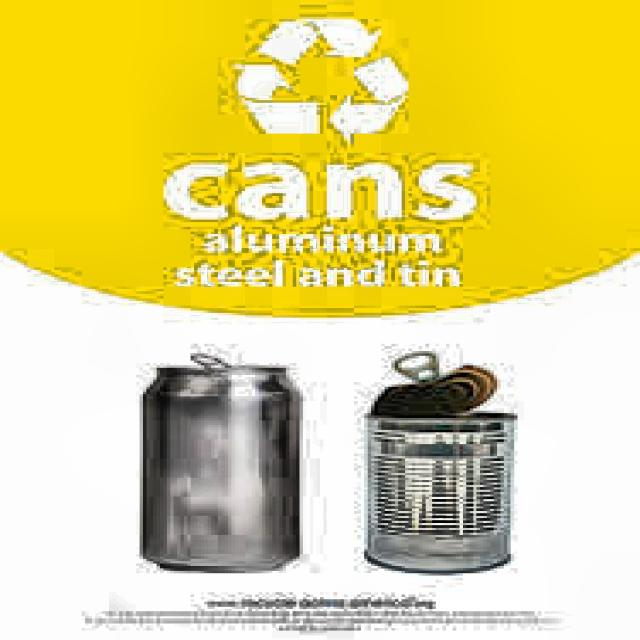can: (340, 346, 538, 584), (130, 343, 314, 584)
